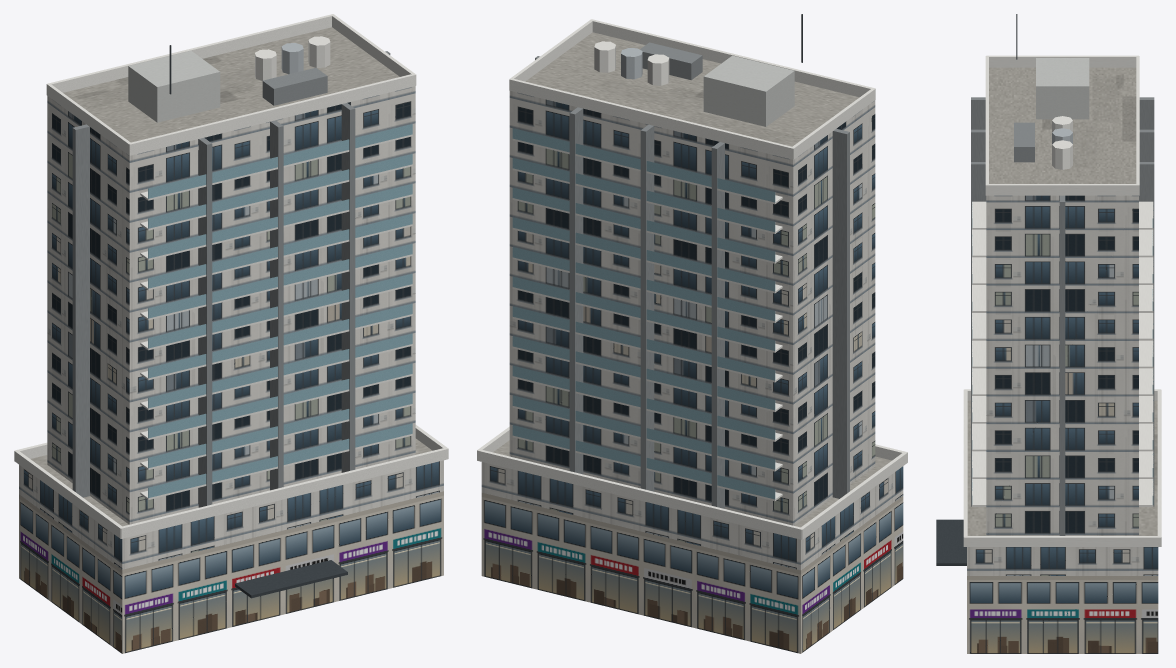
The model's file is OW_CaoOc_CH_BanCong_52.fbx.
3 views of the same model, side by side, from view 1: azimuth 30°, elevation 25°; view 2: azimuth 150°, elevation 25°; view 3: azimuth 270°, elevation 25° (orthographic). The views are drawn at different scales.
Parts seen in each view (by area): view 1: OW_CaoOc_CH_BanCong_52_LOD0; view 2: OW_CaoOc_CH_BanCong_52_LOD0; view 3: OW_CaoOc_CH_BanCong_52_LOD0.
Part boxes in pixels (bbox=[...]): OW_CaoOc_CH_BanCong_52_LOD0: bbox=[14, 14, 448, 653]; OW_CaoOc_CH_BanCong_52_LOD0: bbox=[477, 14, 907, 653]; OW_CaoOc_CH_BanCong_52_LOD0: bbox=[936, 14, 1161, 653].
Size of what is drawn, in the model's own units: 36.7 by 61 by 23.55.
